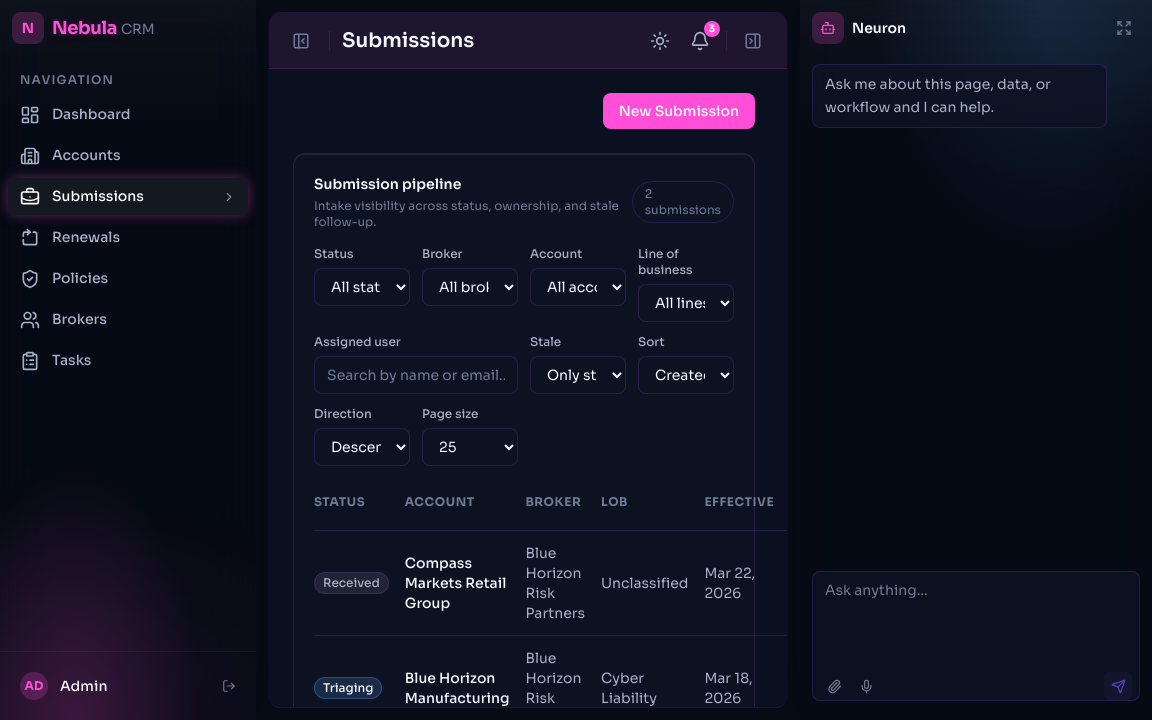
Scenario: SubmissionsPage integration › loads stale submissions and applies status filters against the shared runtime harness
Check: the heading "Submission pipeline" is shown, box [314,175,461,193]
Check: the text "2 submissions" is shown, box [632,181,734,223]
Select "Received" in the dropdown named "Filter submissions by status": (362, 287) [314,268,410,306]
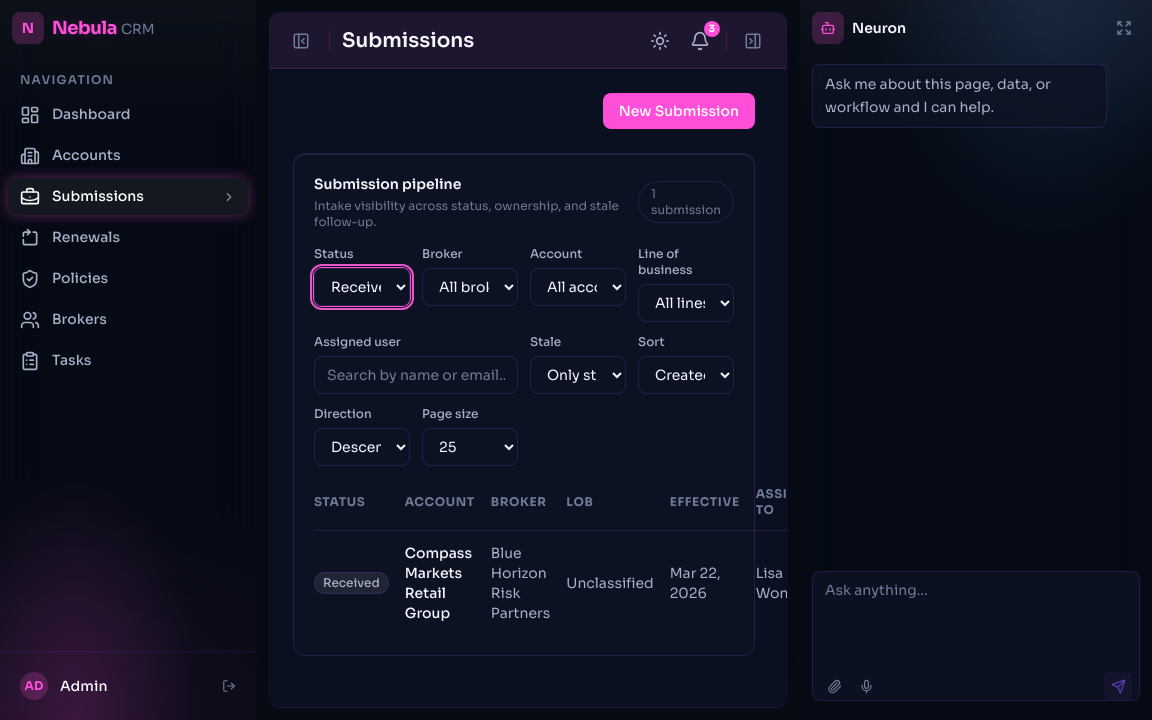
Check: the link "Compass Markets Retail Group" is shown, box [405,544,472,622]
Check: the text "1 submission" is shown, box [638,181,734,223]
Check: the link "Blue Horizon Manufacturing" is gone
